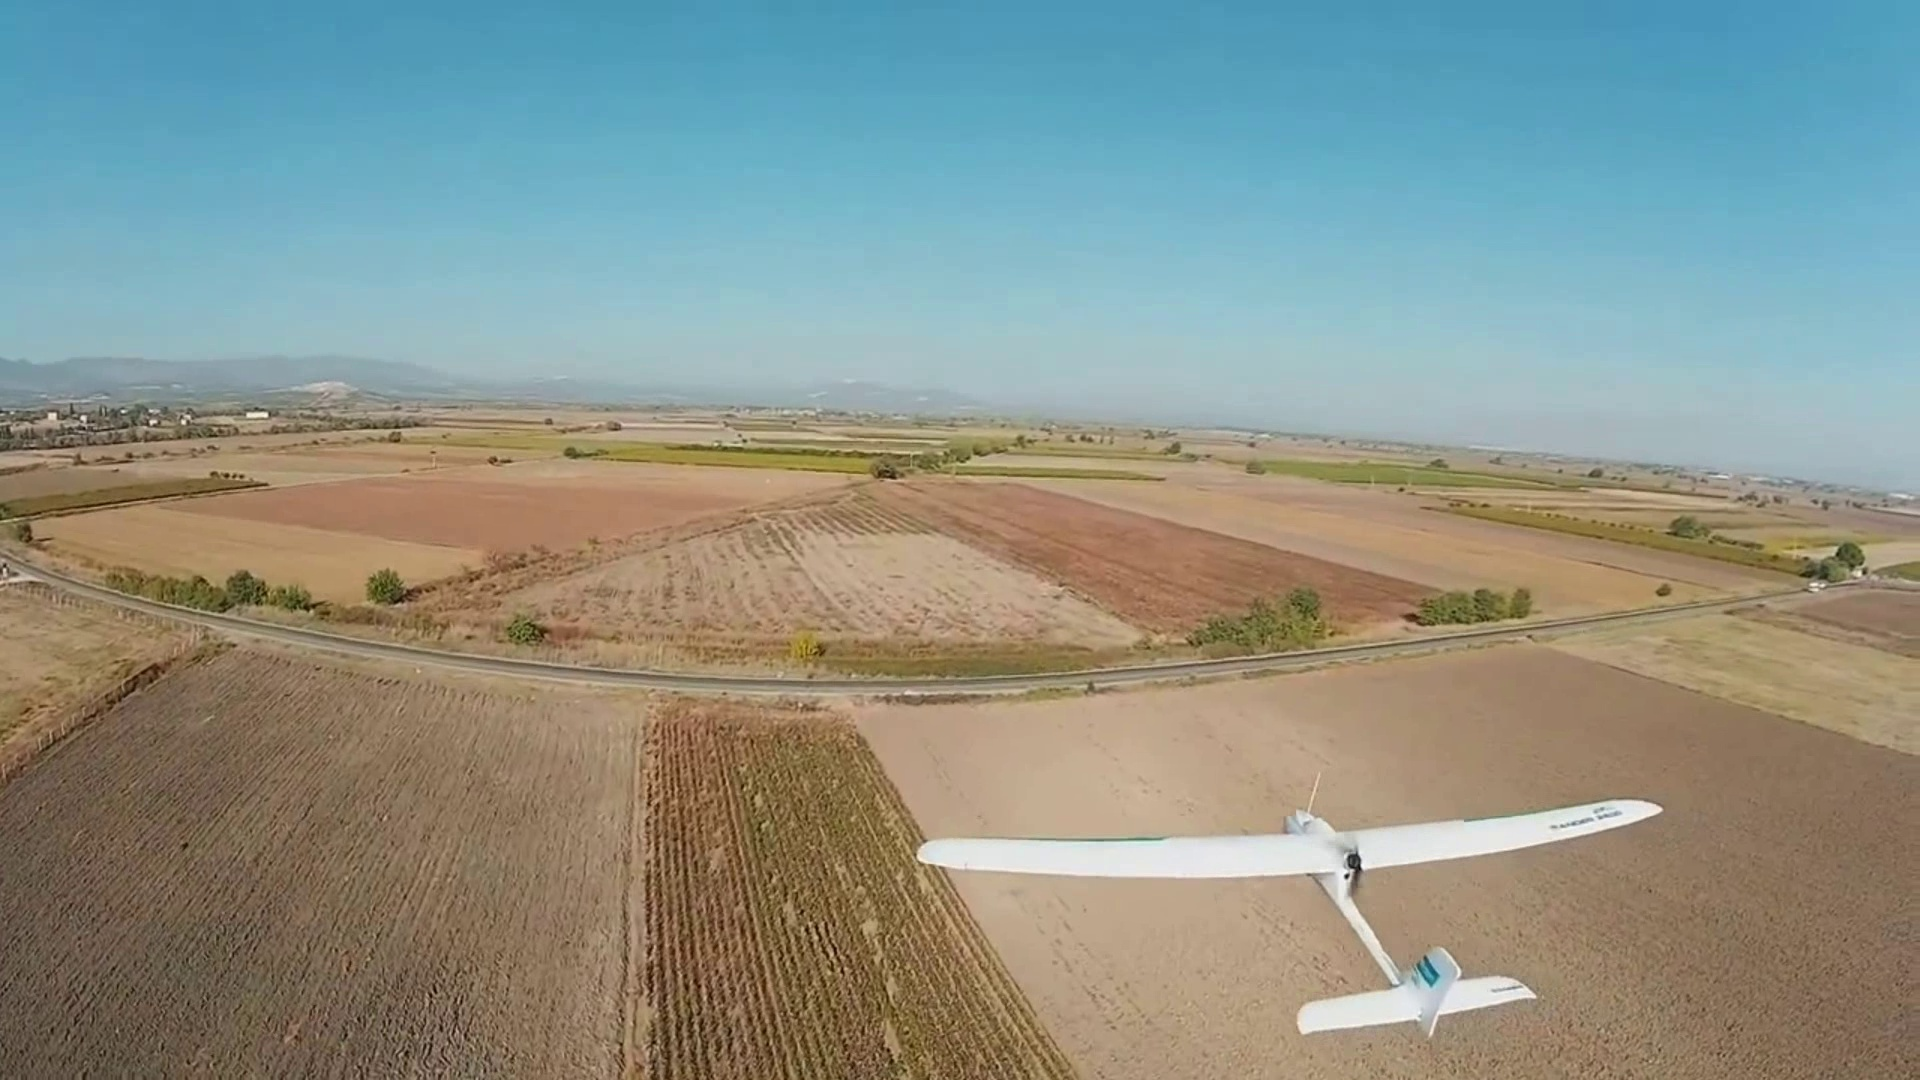airplane: (905, 798, 1662, 1036)
